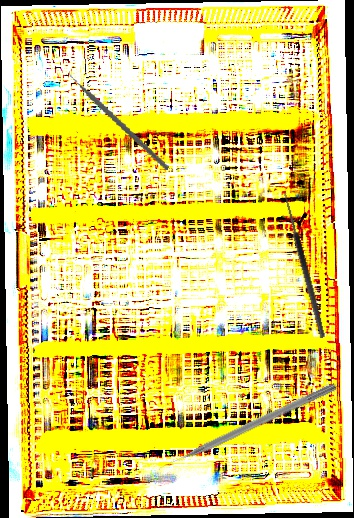Chopper: (53, 63, 186, 171)
Hook Surgical: (273, 189, 327, 341)
Pusher: (154, 379, 339, 474)
